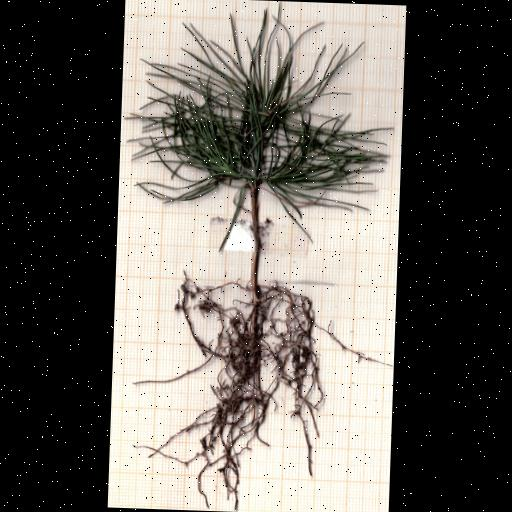flowerCedr: (130, 2, 385, 224)
rootCedr: (134, 272, 384, 510)
stemCedr: (248, 187, 261, 294)
